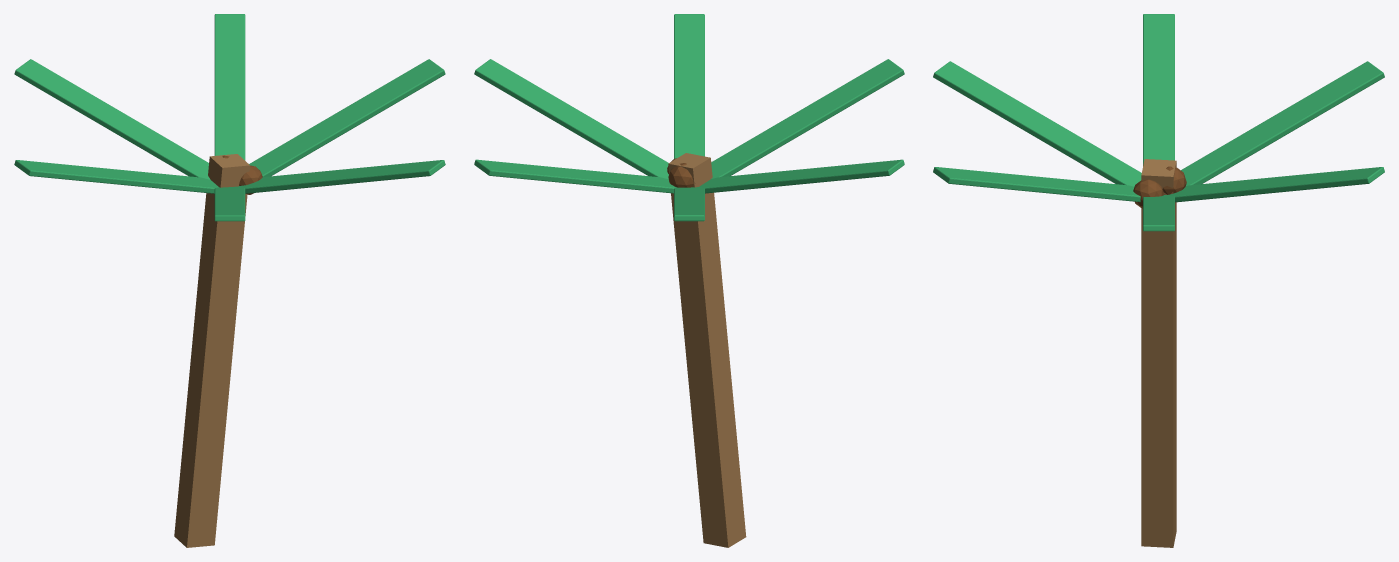
The model's file is Surfing_Palm.fbx.
The picture shows the model from 3 angles, left to right: view 1: azimuth 30°, elevation 25°; view 2: azimuth 150°, elevation 25°; view 3: azimuth 270°, elevation 25°; orthographic projection. The views are drawn at different scales.
Visible parts, largest first — view 1: Palm; view 2: Palm; view 3: Palm.
Part boxes in pixels (x1=…): Palm: x1=14, y1=14, x2=445, y2=547; Palm: x1=474, y1=14, x2=904, y2=547; Palm: x1=933, y1=14, x2=1384, y2=547.
Bounding box in the file's own units: 4.7 × 4.51 × 4.21.
